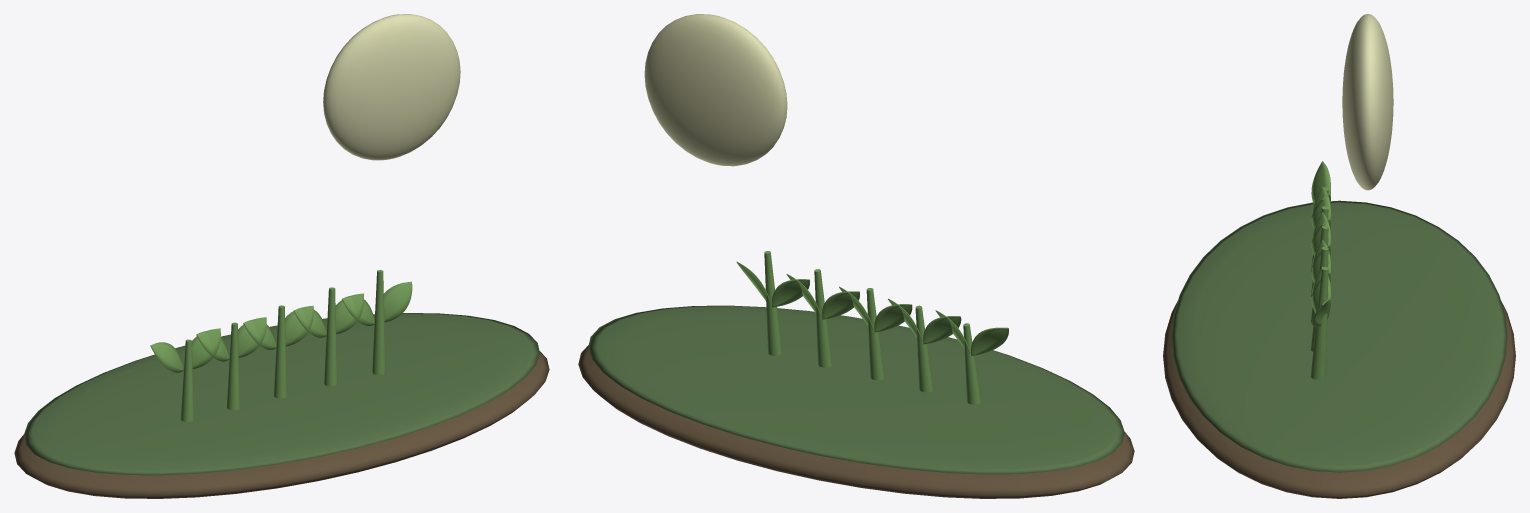
File: green.glb
3 renders of one model, left to right at view 1: azimuth 30°, elevation 25°; view 2: azimuth 150°, elevation 25°; view 3: azimuth 270°, elevation 25°, orthographic. The views are drawn at different scales.
Parts seen in each view (by area): view 1: green_surface_01, green_surface_03, green_surface_00, green_surface_02; view 2: green_surface_01, green_surface_03, green_surface_00, green_surface_02; view 3: green_surface_01, green_surface_00, green_surface_03, green_surface_02.
Part boxes in pixels (<box>): green_surface_01: <box>24,313,539,475</box>; green_surface_03: <box>323,14,460,160</box>; green_surface_00: <box>14,351,549,498</box>; green_surface_02: <box>150,270,412,422</box>; green_surface_01: <box>588,305,1124,474</box>; green_surface_03: <box>644,14,787,166</box>; green_surface_00: <box>578,345,1134,498</box>; green_surface_02: <box>736,251,1008,404</box>; green_surface_01: <box>1171,200,1507,472</box>; green_surface_00: <box>1163,301,1515,498</box>; green_surface_03: <box>1342,14,1393,190</box>; green_surface_02: <box>1310,161,1330,379</box>.
Size of the model in its own units: 4.68 by 3.31 by 2.48.
